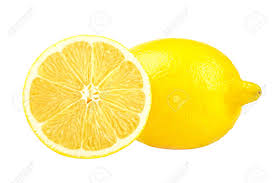lemon: (108, 35, 262, 149)
